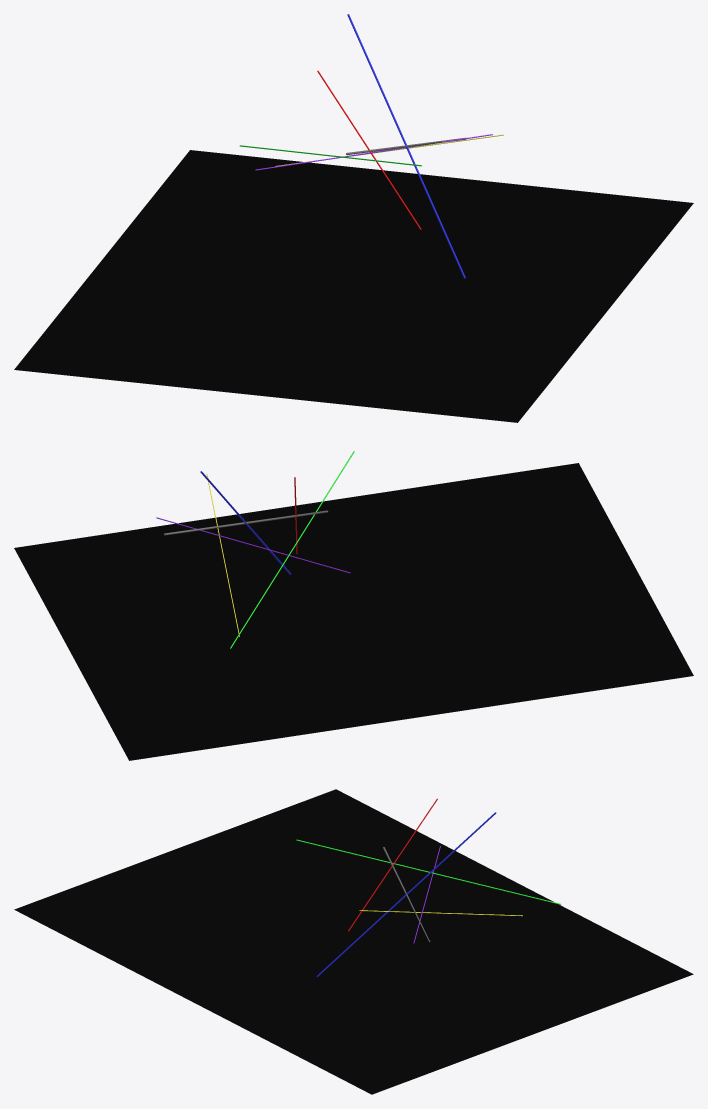
The model's file is LageB_senkrecht_zwischen_grau_strecke.glb.
3 views of the same model, one above another, from view 1: azimuth 30°, elevation 25°; view 2: azimuth 150°, elevation 25°; view 3: azimuth 270°, elevation 25° (orthographic). The views are drawn at different scales.
Visible parts, largest first — view 1: p.0015, s.0064; view 2: p.0015; view 3: p.0015, s.0064, s.0047.
Part boxes in pixels (x1,y1,x2,y2): p.0015: (14, 150, 693, 422); s.0064: (347, 14, 465, 278); p.0015: (14, 463, 693, 760); p.0015: (14, 789, 693, 1094); s.0064: (316, 812, 496, 977); s.0047: (296, 839, 561, 904).
Bounding box in the file's own units: 1.55 × 0.4475 × 1.54.
